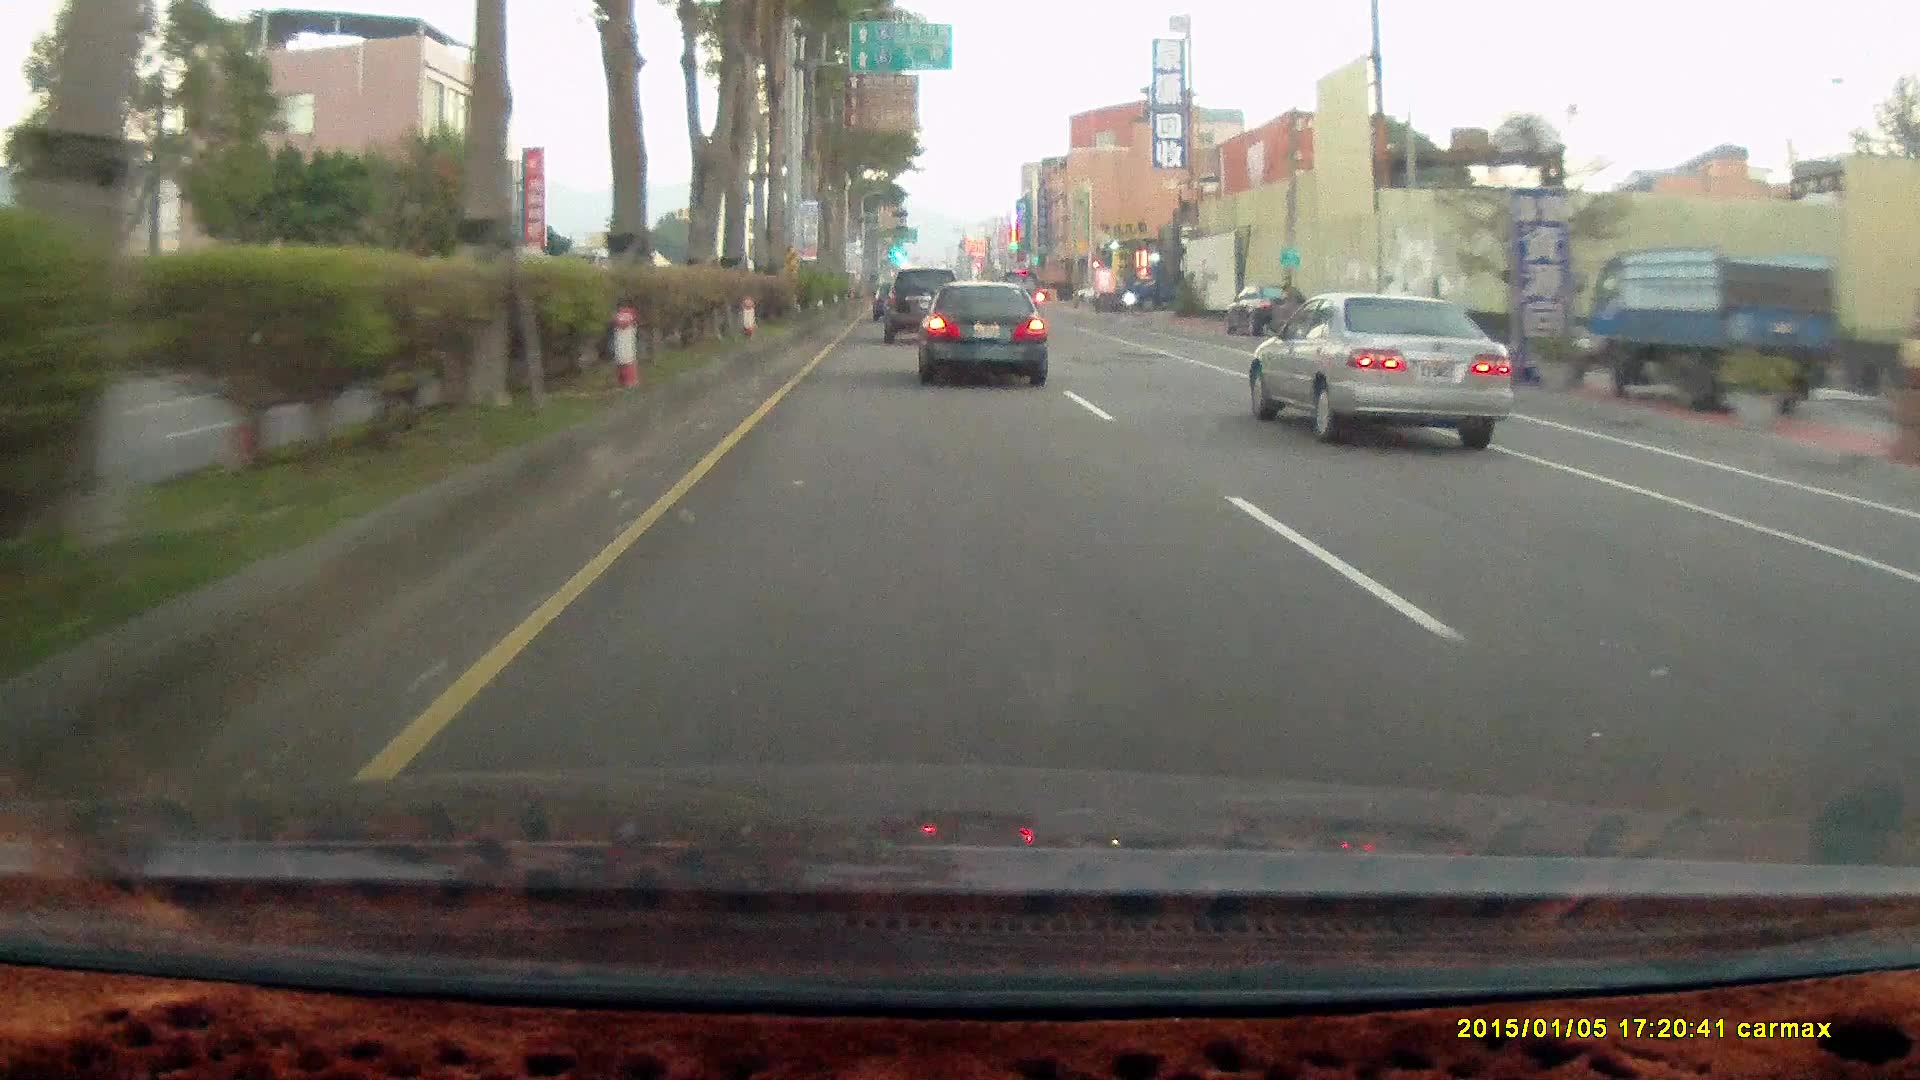vehicle: (1578, 247, 1844, 419), (1581, 248, 1841, 418), (1246, 291, 1514, 452), (1263, 298, 1530, 458), (914, 281, 1047, 386), (916, 287, 1048, 392), (884, 266, 963, 345), (1222, 289, 1309, 342), (1122, 266, 1197, 314)
